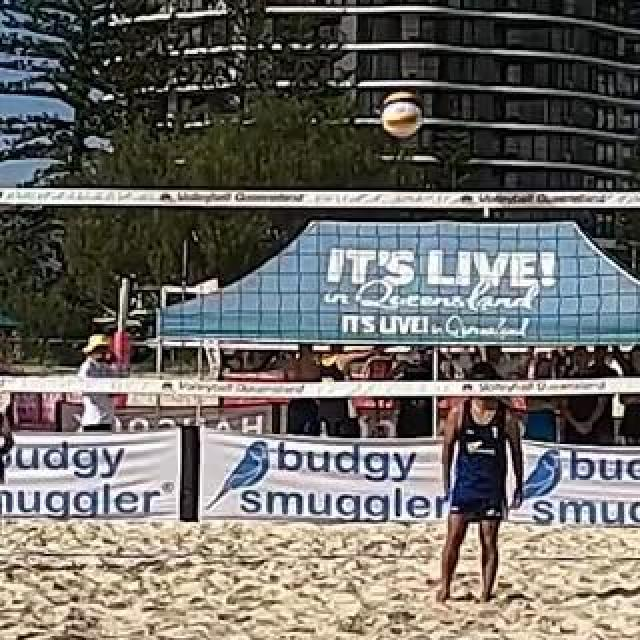volleyball: (382, 91, 420, 137)
